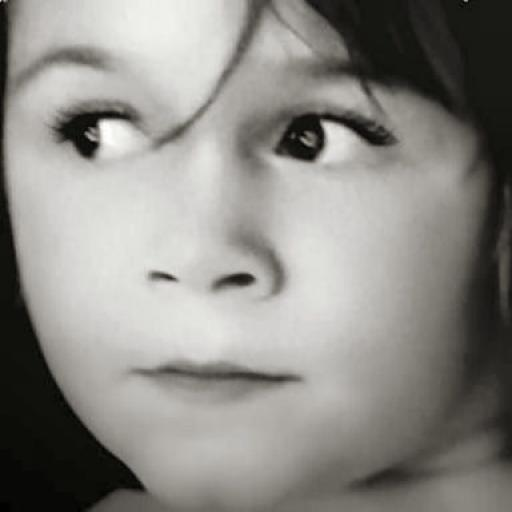Autism: (13, 8, 512, 502)
